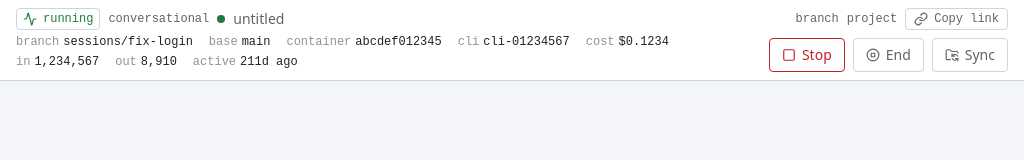
it: SessionHeader › falls back to untitled and opens an editor on click
The width and height of the screenshot is (1024, 160).
Click the button with aria-label "Edit title": (259, 19) [233,9,284,29]
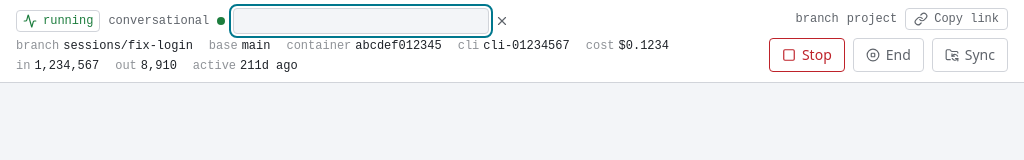
Result: the field named "Session title" is shown at [233,8,489,34]
